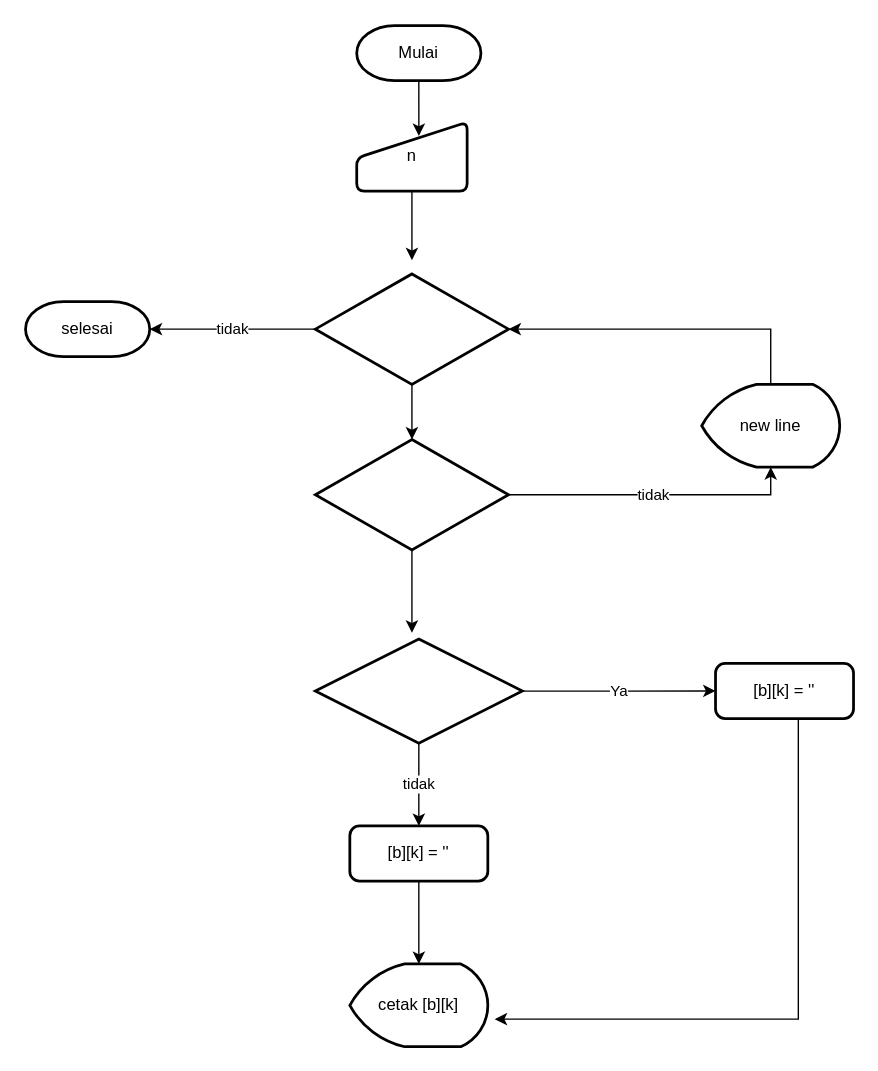
Image size: 878x1071. Some labels were removed from this diagram. The centre of each missing label's shape, as x and y in pixels:
"for (int b = 0; b < n; b++)" belongs at (x=411, y=328).
"for(int k=0;k<n;k++)" belongs at (x=411, y=494).
"if (b == k || b + k == n - 1)" belongs at (x=418, y=690).
